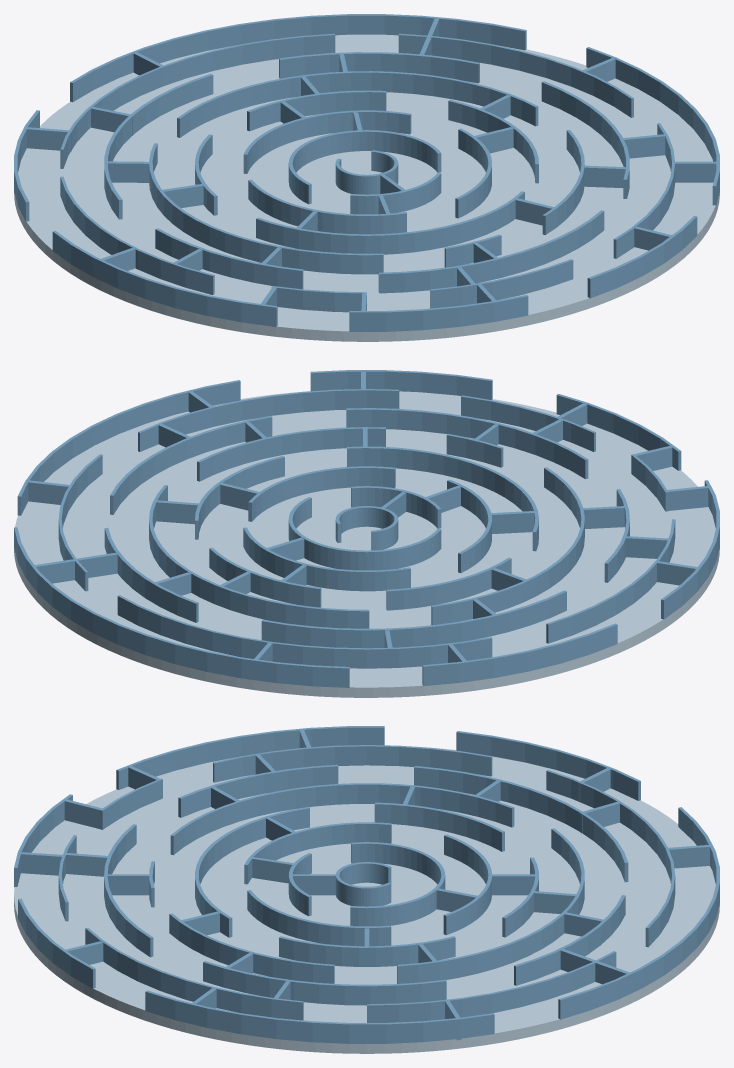
Rendered from maze_7.fbx.
The picture shows the model from 3 angles, top to bottom: view 1: azimuth 30°, elevation 25°; view 2: azimuth 150°, elevation 25°; view 3: azimuth 270°, elevation 25°; orthographic projection.
Parts seen in each view (by area): view 1: Cylinder.009, Cylinder.007, Cylinder.008, Cylinder.006, Cylinder.005, Cylinder.004, Cylinder.003, Cylinder.002, Cylinder.001, Cube.023, Cube.013, Cube.021 (+7 smaller); view 2: Cylinder.009, Cylinder.007, Cylinder.008, Cylinder.006, Cylinder.005, Cylinder.004, Cylinder.003, Cylinder.002, Cylinder.001, Cube.005, Cube.007, Cube.010 (+11 smaller); view 3: Cylinder.009, Cylinder.007, Cylinder.008, Cylinder.006, Cylinder.005, Cylinder.004, Cylinder.003, Cylinder.002, Cylinder.001, Cube.004, Cube.009, Cube.022 (+11 smaller).
Part boxes in pixels (box(x1,y1,x2,y2)): Cylinder.009: box(14, 34, 719, 341); Cylinder.007: box(14, 14, 719, 331); Cylinder.008: box(60, 33, 675, 312); Cylinder.006: box(104, 52, 629, 293); Cylinder.005: box(149, 71, 584, 274); Cylinder.004: box(195, 90, 538, 254); Cylinder.003: box(243, 110, 491, 234); Cylinder.002: box(288, 130, 441, 214); Cylinder.001: box(335, 150, 398, 194); Cube.023: box(675, 161, 716, 182); Cube.013: box(108, 161, 149, 182); Cube.021: box(584, 165, 625, 187); Cylinder.009: box(14, 391, 719, 697); Cylinder.007: box(14, 370, 719, 687); Cylinder.008: box(58, 389, 675, 668); Cylinder.006: box(104, 408, 629, 648); Cylinder.005: box(149, 427, 584, 628); Cylinder.004: box(195, 446, 538, 610); Cylinder.003: box(243, 466, 491, 591); Cylinder.002: box(288, 486, 441, 570); Cylinder.001: box(335, 506, 398, 550); Cube.005: box(491, 511, 534, 533); Cube.007: box(667, 486, 708, 510); Cube.010: box(583, 506, 624, 528); Cylinder.009: box(14, 746, 719, 1053); Cylinder.007: box(14, 726, 719, 1043); Cylinder.008: box(58, 745, 675, 1022); Cylinder.006: box(104, 764, 628, 1005); Cylinder.005: box(149, 783, 584, 983); Cylinder.004: box(195, 802, 538, 966); Cylinder.003: box(244, 822, 491, 946); Cylinder.002: box(288, 842, 445, 926); Cylinder.001: box(335, 862, 391, 906); Cube.004: box(492, 874, 534, 895); Cube.009: box(107, 874, 149, 895); Cube.022: box(21, 852, 62, 875).
Size of the model in its own units: 1354 by 62.65 by 1354.
